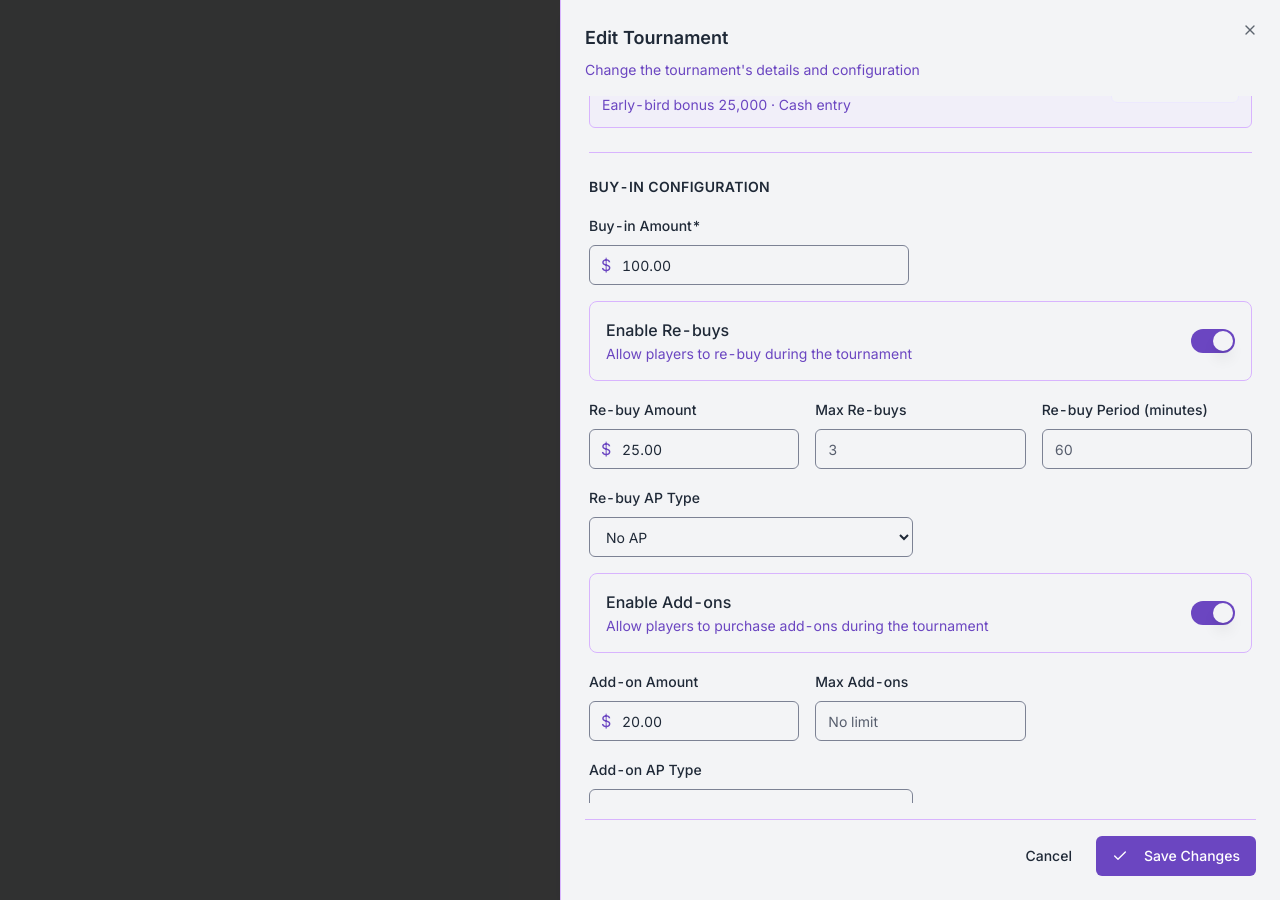
EditTournamentDialog (CA-14) › never re-prices entries already recorded without saying so (P3REV0-PARITY-EDIT-REPRICE) › asks before new prices re-price what is recorded, then sends them confirmed
The image size is (1280, 900).
(page scrolled)
Replace the text in the field with test id "rebuy-amount" with "20". click: (694, 449)
box: [589, 429, 799, 469]
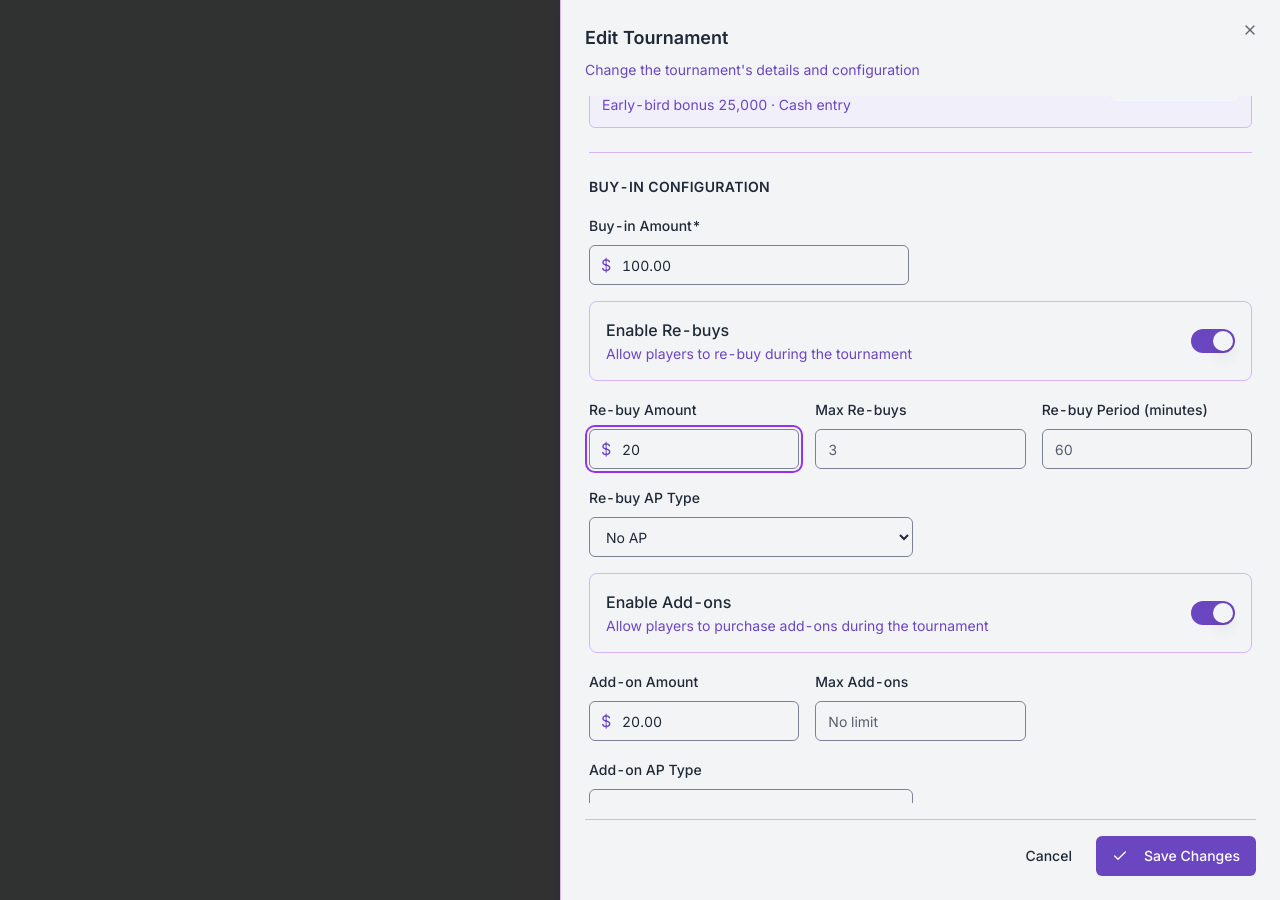
Click the button with test id "save-tournament". click: (1176, 856)
box: [1096, 836, 1256, 876]
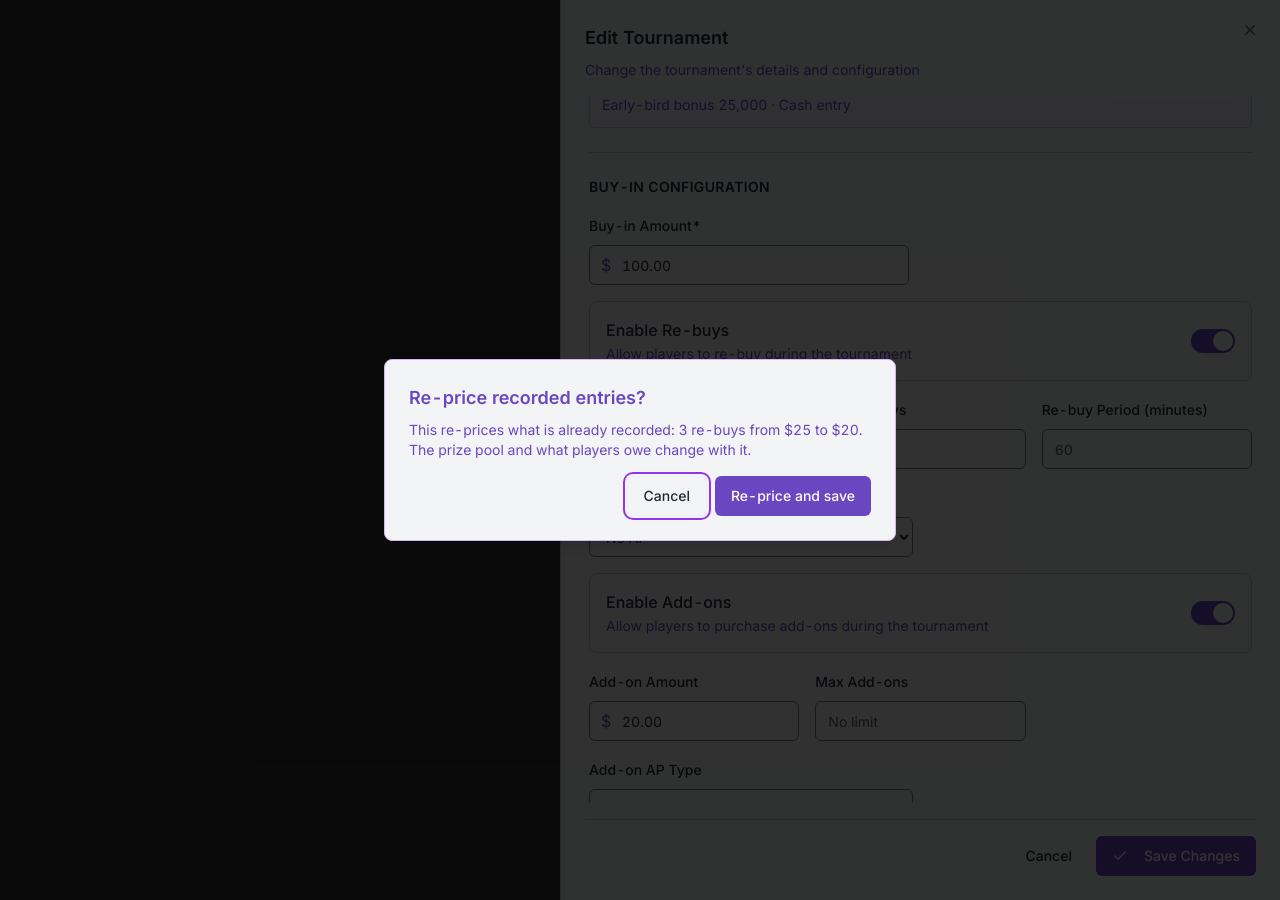
Expected: the dialog "Re-price recorded entries?" shows "This re-prices what is already recorded: 3 re-buys from $25 to $20. The prize pool and what players owe change with it.", [409, 421, 862, 458]
Click the button "Re-price and save". click: (793, 496)
box: [715, 476, 871, 516]
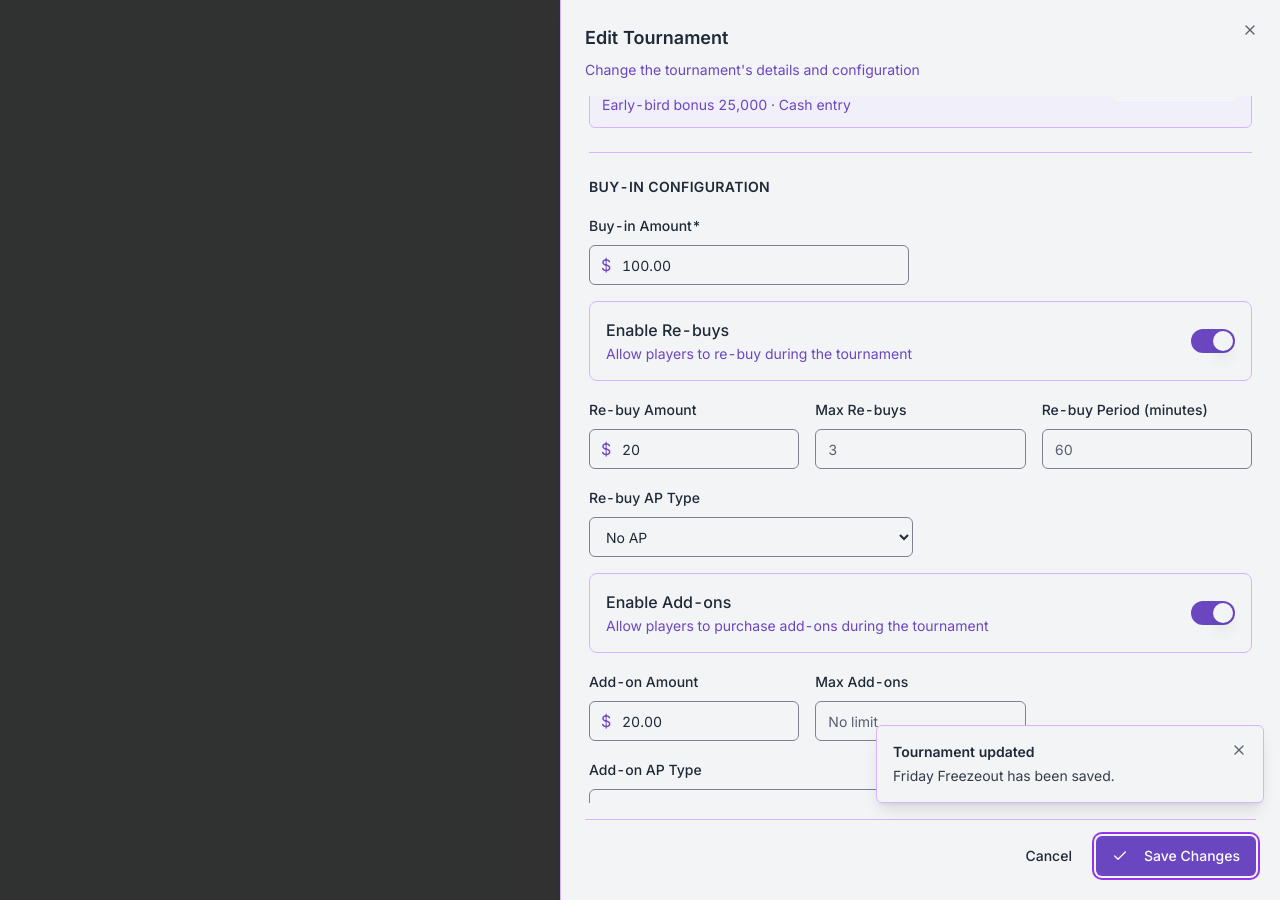
Expected: the text "Tournament updated" is shown, [893, 743, 1035, 760]
